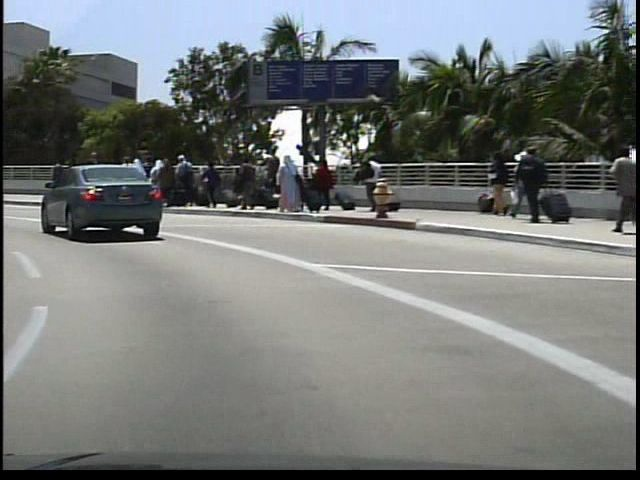person: (603, 142, 632, 233), (511, 143, 543, 224), (57, 152, 84, 211), (357, 150, 383, 211), (81, 150, 106, 207), (50, 159, 61, 190)
